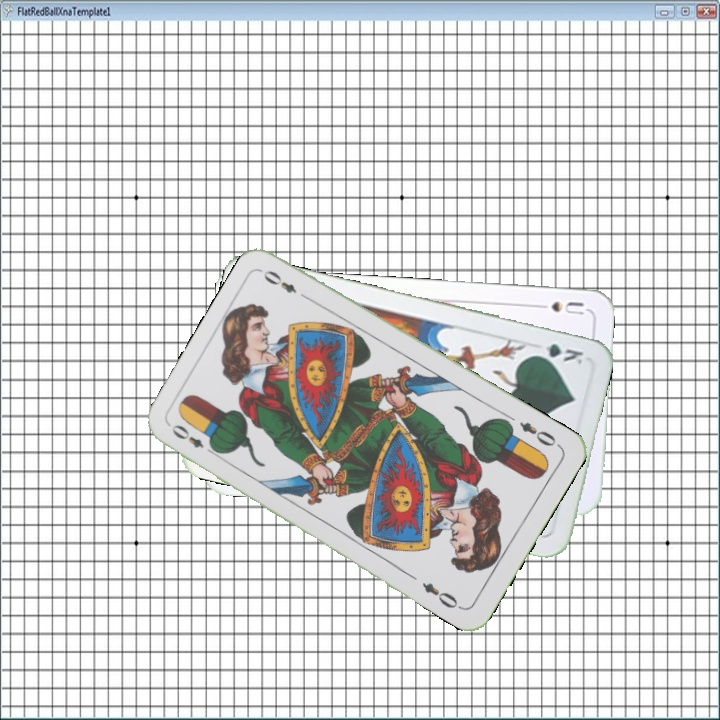EO: (167, 420, 221, 459), (515, 418, 563, 450)
GK: (528, 339, 586, 368)
SU: (529, 297, 586, 317)
